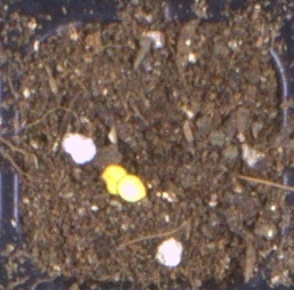chilli seed: (117, 175, 146, 202), (101, 164, 127, 194)
